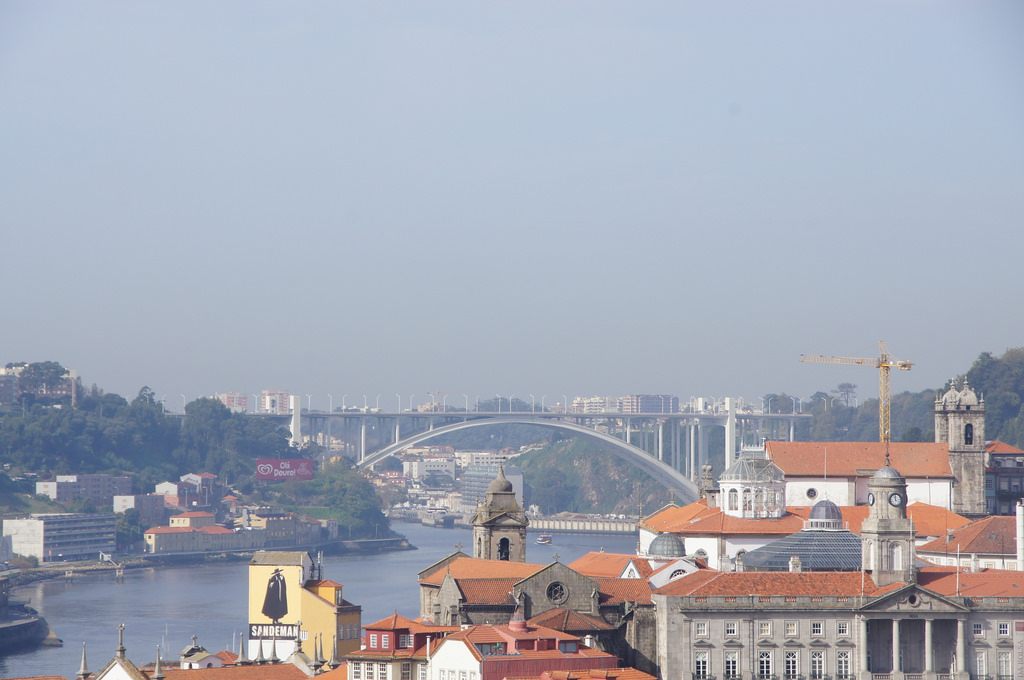arrabida: (227, 389, 813, 509)
